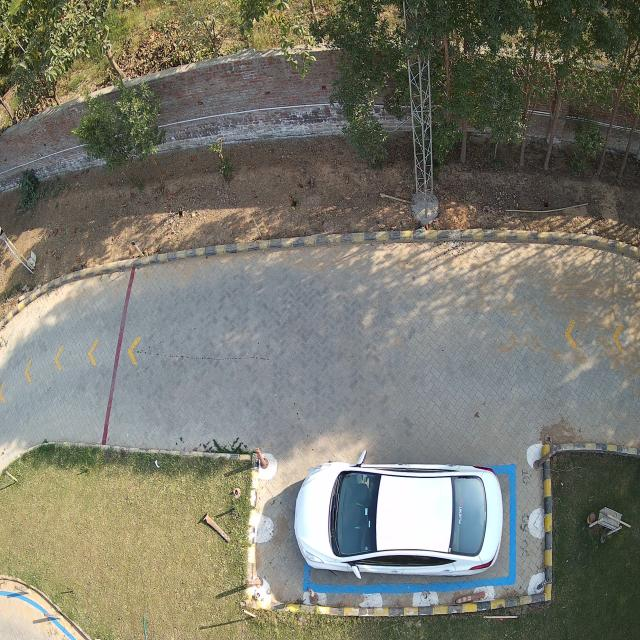car: (296, 451, 505, 577)
